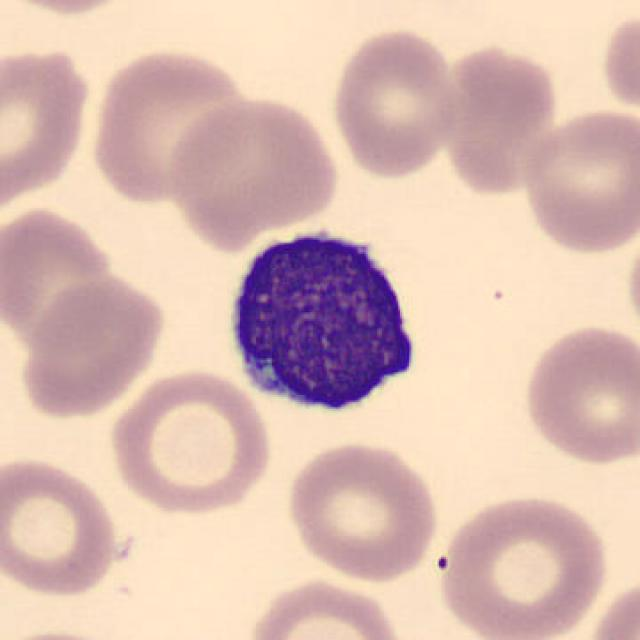Lymphocyte: (217, 215, 432, 425)
RBC: (164, 92, 343, 250), (87, 42, 256, 206), (432, 488, 613, 640), (105, 365, 275, 518), (281, 436, 443, 584), (12, 272, 169, 419), (327, 23, 464, 182), (436, 42, 564, 198), (0, 453, 126, 600), (518, 104, 638, 257), (2, 203, 121, 354), (519, 321, 638, 469), (0, 39, 94, 222), (244, 575, 407, 640), (581, 571, 640, 640), (0, 0, 151, 18), (622, 215, 640, 346)
